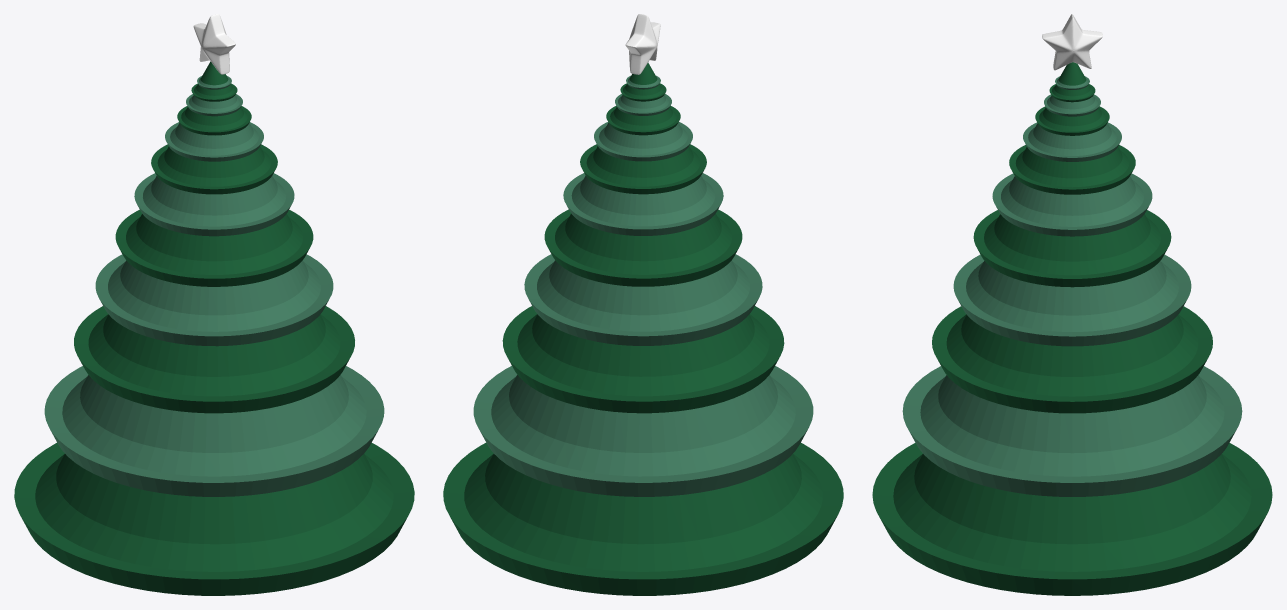
File: christmasTree.glb
3 views of the same model, side by side, from view 1: azimuth 30°, elevation 25°; view 2: azimuth 150°, elevation 25°; view 3: azimuth 270°, elevation 25° (orthographic).
Visible parts, largest first — view 1: Cylinder.034, Cylinder; view 2: Cylinder.034, Cylinder; view 3: Cylinder.034, Cylinder.
Boxes of the visible parts, x1,y1,x2,y2 form: Cylinder.034: (14, 61, 414, 595); Cylinder: (193, 14, 235, 74); Cylinder.034: (443, 62, 843, 595); Cylinder: (625, 14, 660, 74); Cylinder.034: (872, 62, 1272, 595); Cylinder: (1042, 14, 1102, 70).
Bounding box in the file's own units: 0.8476 × 1.17 × 0.8476.
